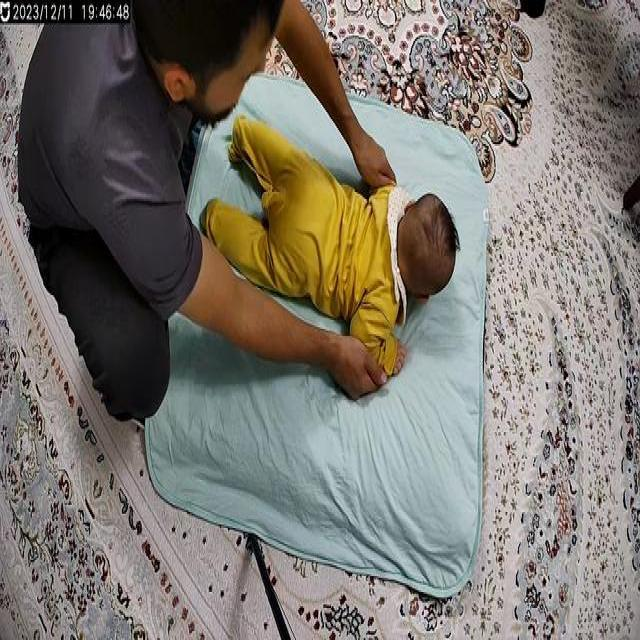baby: (197, 104, 461, 386)
